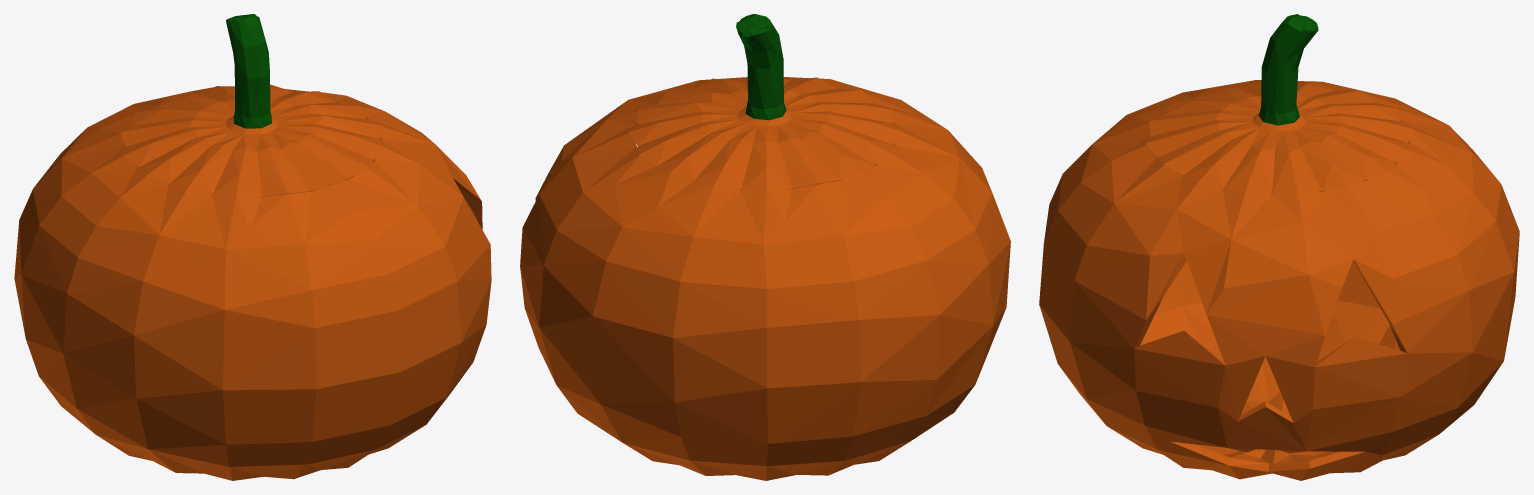
The model's file is pumpkin.obj.
The picture shows the model from 3 angles, left to right: view 1: azimuth 30°, elevation 25°; view 2: azimuth 150°, elevation 25°; view 3: azimuth 270°, elevation 25°; orthographic projection. The views are drawn at different scales.
Parts seen in each view (by area): view 1: Sphere; view 2: Sphere; view 3: Sphere.
Part boxes in pixels (box(x1,y1,x2,y2)): Sphere: box(14, 14, 491, 480); Sphere: box(520, 14, 1010, 480); Sphere: box(1039, 14, 1519, 480).
Bounding box in the file's own units: 1.06 × 1.02 × 1.06.
